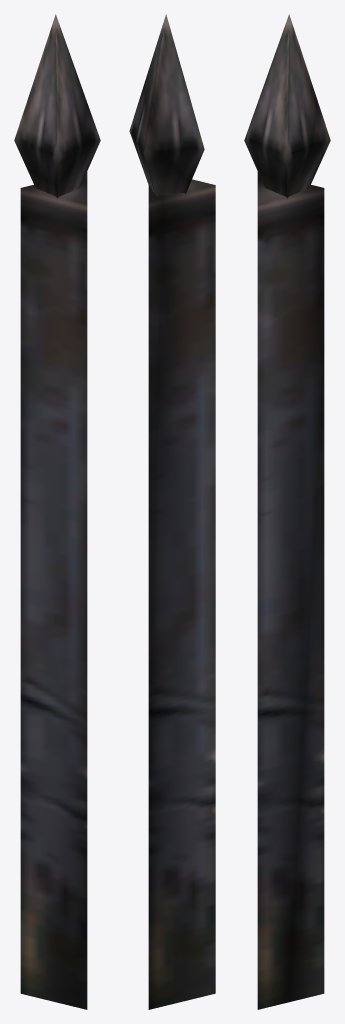
The model's file is duskwoodfencepost.obj.
3 views of the same model, side by side, from view 1: azimuth 90°, elevation 25°; view 2: azimuth 150°, elevation 25°; view 3: azimuth 270°, elevation 25° (orthographic).
Visible parts, largest first — view 1: DUSKWOODFENCEPOST0; view 2: DUSKWOODFENCEPOST0; view 3: DUSKWOODFENCEPOST0.
Part boxes in pixels (x1,y1,x2,y2): DUSKWOODFENCEPOST0: (14,14,100,1009); DUSKWOODFENCEPOST0: (129,14,215,1009); DUSKWOODFENCEPOST0: (244,14,330,1009).
Size of the model in its own units: 0.373 by 4.66 by 0.373.
Materials: 1 (1 with a texture image).
